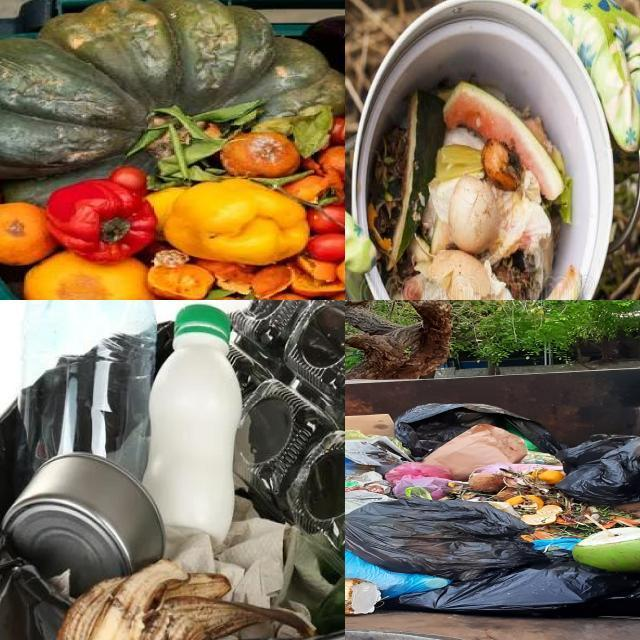Disposable: (229, 300, 345, 632)
Garbage: (0, 300, 345, 640), (0, 0, 345, 300), (345, 404, 640, 617), (365, 67, 581, 300), (142, 305, 242, 542), (57, 560, 315, 640)
Metal: (1, 453, 165, 597)
Plastic: (345, 578, 381, 615)
Plastic_Bag: (383, 549, 640, 617), (345, 498, 543, 580), (394, 403, 565, 461), (557, 434, 640, 506), (345, 549, 452, 599), (386, 462, 452, 499), (502, 420, 541, 451), (472, 462, 563, 475), (521, 451, 563, 466), (532, 539, 582, 550), (345, 429, 381, 440), (375, 461, 400, 475), (389, 438, 408, 452)
Plastic_bottle: (19, 300, 156, 479), (19, 300, 156, 478), (142, 305, 242, 543), (287, 431, 345, 548)
contaminated_waste: (144, 305, 242, 543)
